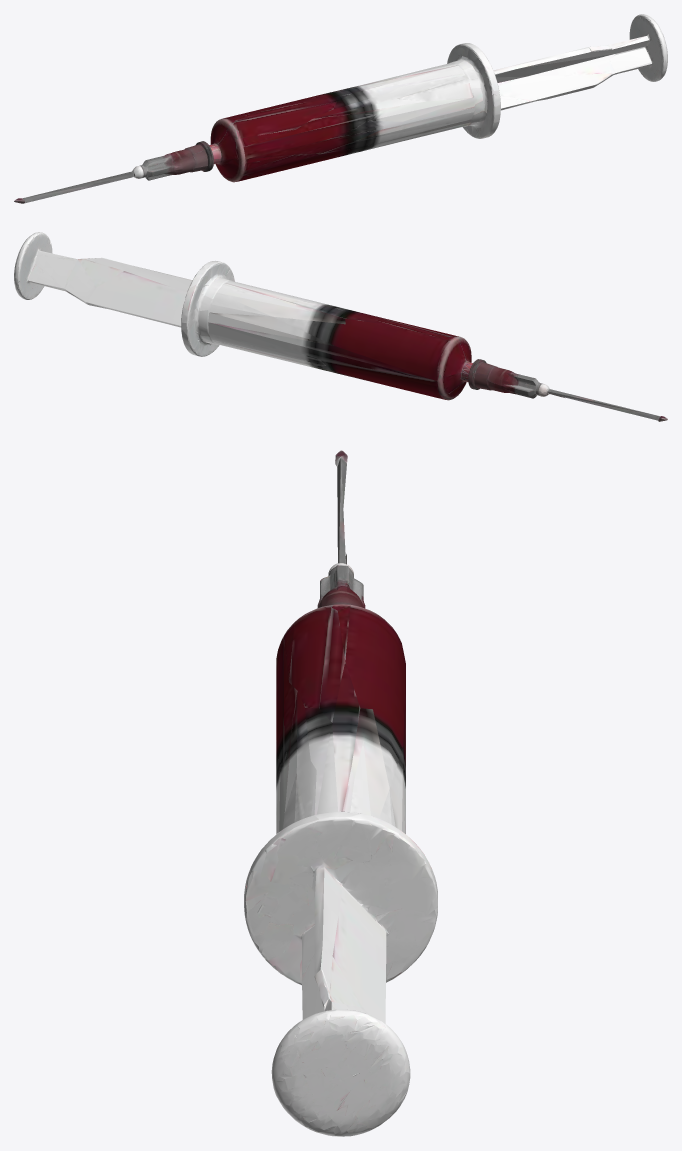
File: jeringa.glb
3 views of the same model, one above another, from view 1: azimuth 30°, elevation 25°; view 2: azimuth 150°, elevation 25°; view 3: azimuth 270°, elevation 25° (orthographic). The views are drawn at different scales.
Visible parts, largest first — view 1: output_unwrapped; view 2: output_unwrapped; view 3: output_unwrapped.
Part boxes in pixels (left/top/right/bottom): output_unwrapped: left=14, top=14, right=667, bottom=203; output_unwrapped: left=14, top=232, right=667, bottom=421; output_unwrapped: left=244, top=450, right=437, bottom=1136.
Size of the model in its own units: 1.9 by 0.25 by 0.25.
Materials: 1 (1 with a texture image).
